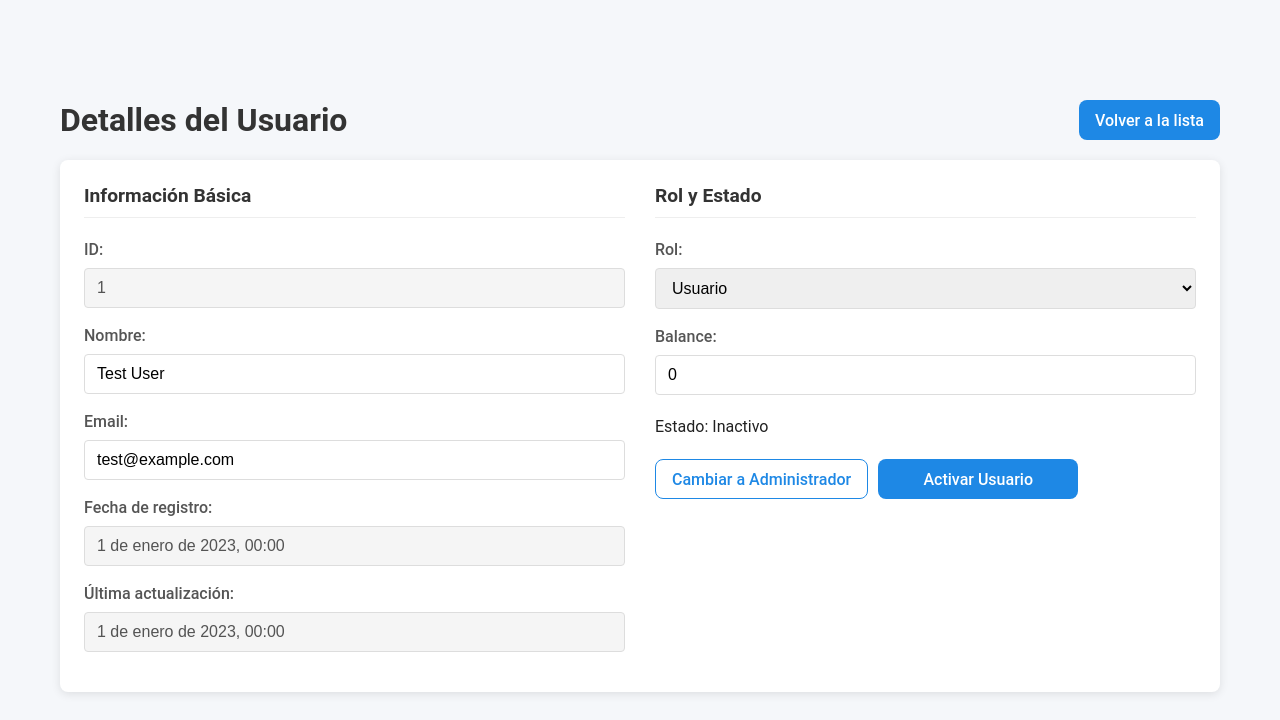
Test: UserDetail Component › activates user when clicking on activate button
// Activar el usuario
Click the button "Activar Usuario": (978, 479) 878,459 -> 1078,499
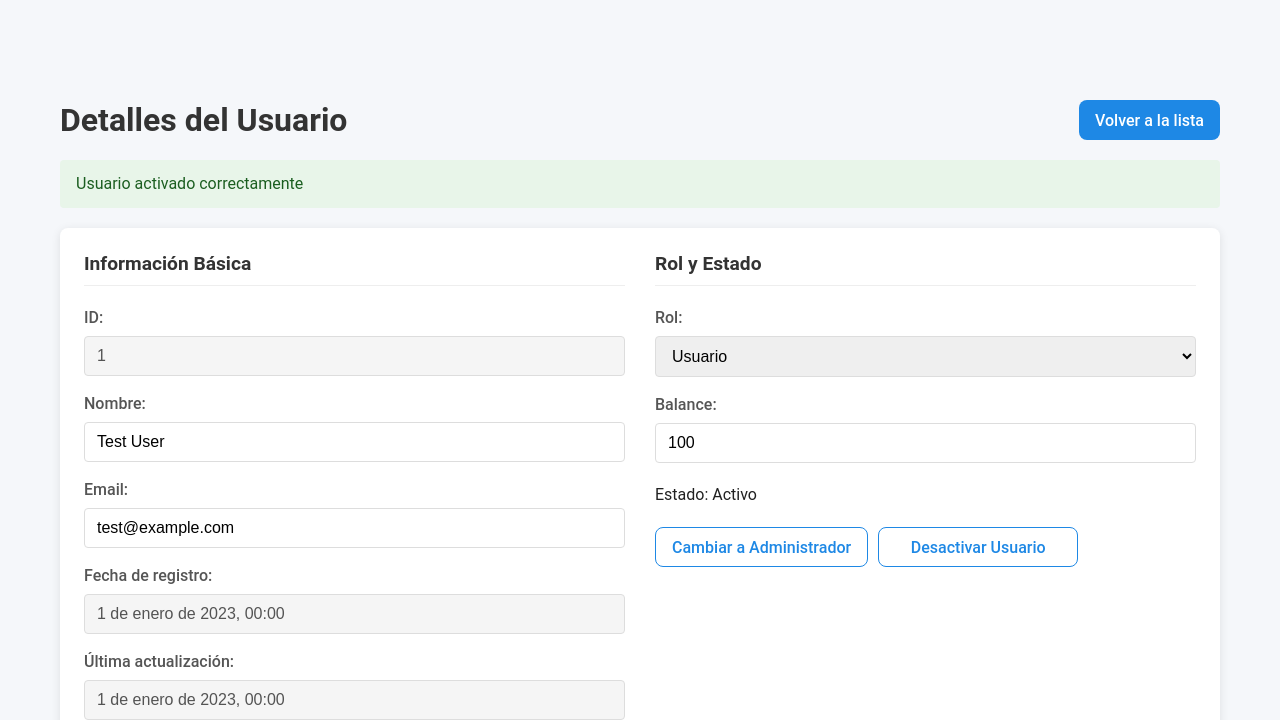
Expected: the text "Usuario activado correctamente" is shown, 60,160 -> 1220,208
